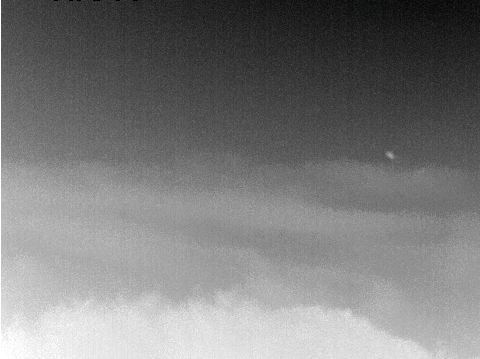dim target: (385, 151, 394, 159)
